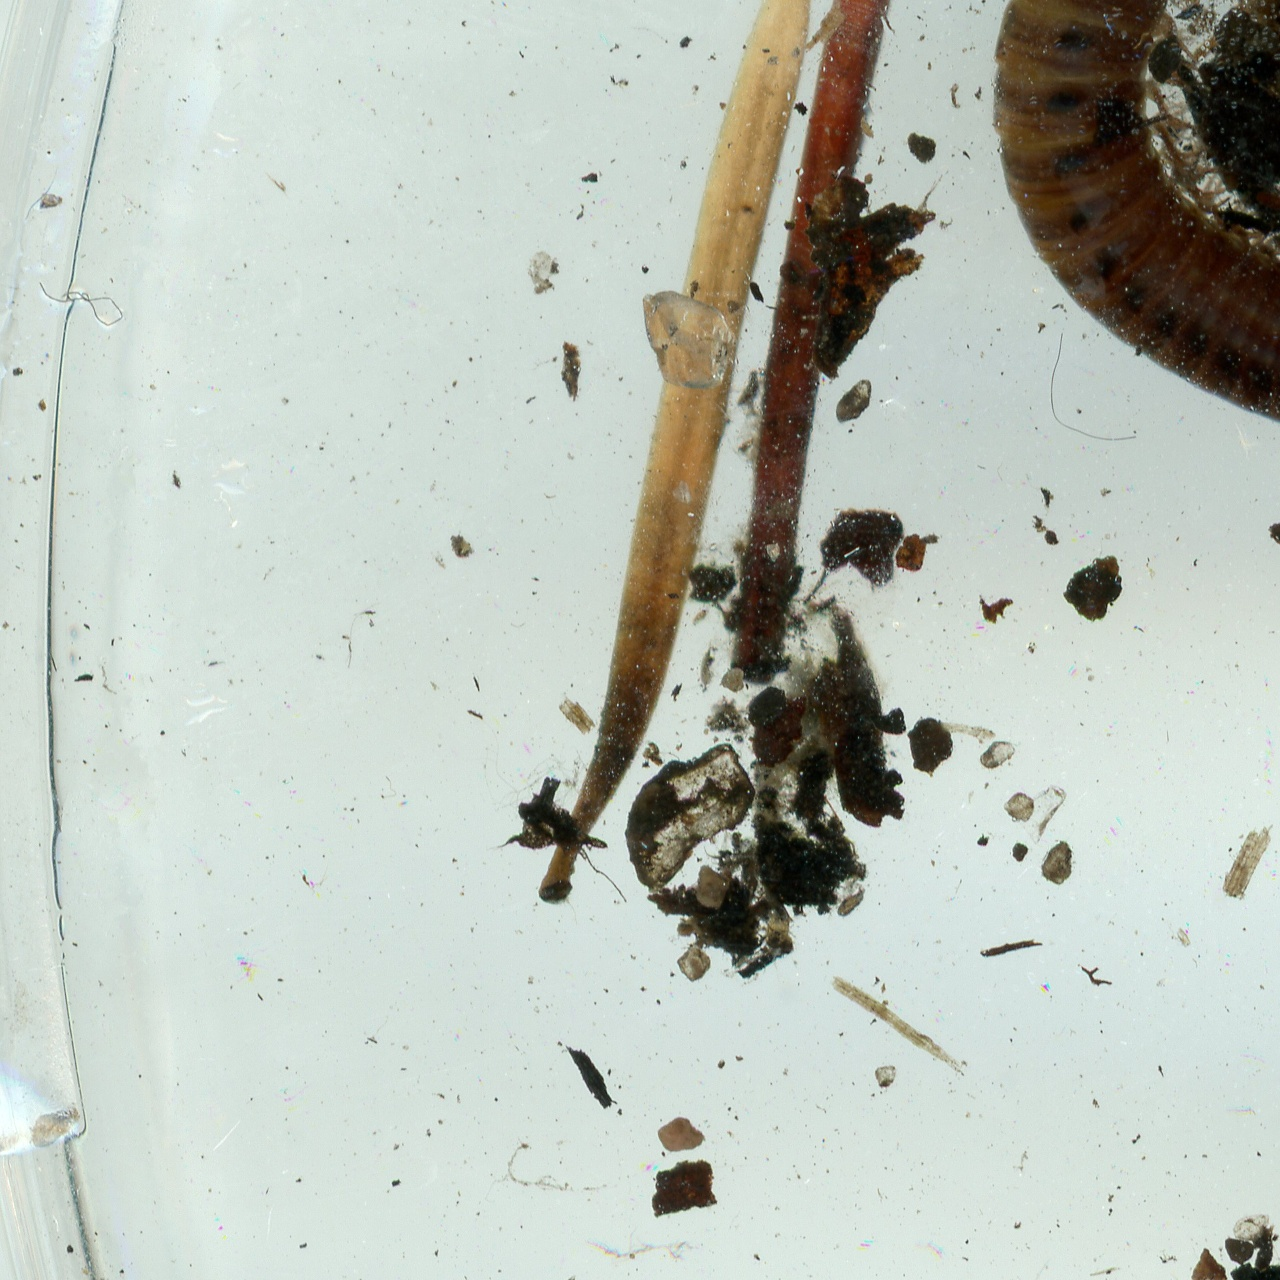arthropod: (981, 0, 1280, 445)
